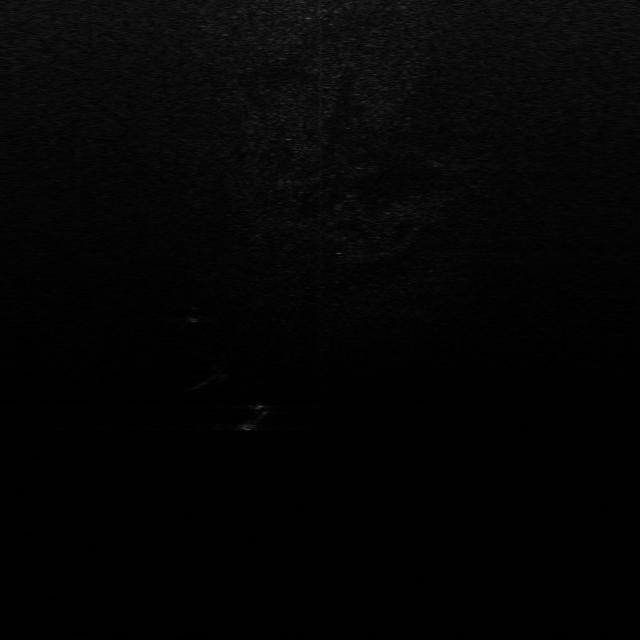ball: (204, 364, 233, 386)
circle cage: (182, 308, 207, 324)
tyre: (232, 403, 273, 432)
